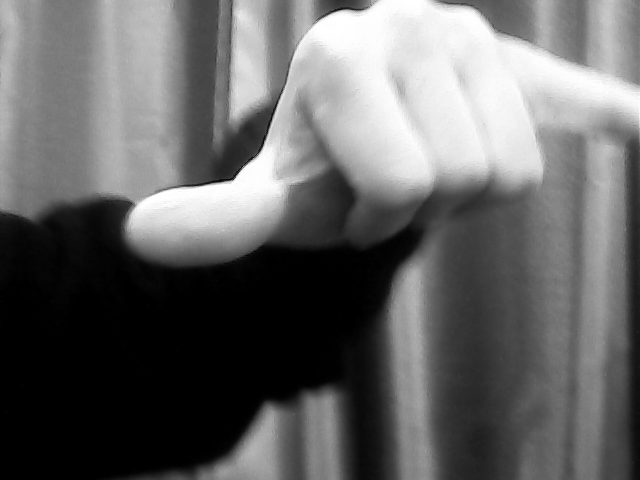aloha: (123, 1, 640, 277)
